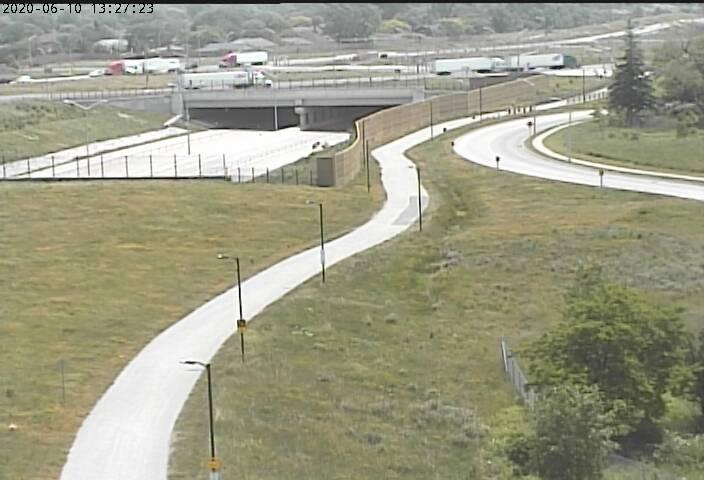time_stamp: (1, 1, 157, 18)
